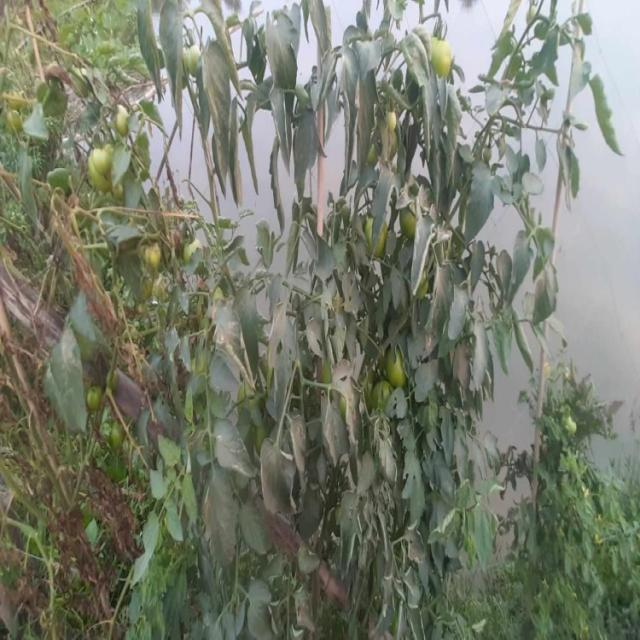tomato: (413, 27, 460, 78), (90, 146, 120, 188), (140, 233, 167, 274), (362, 220, 391, 253), (178, 43, 209, 73), (386, 355, 408, 389), (110, 103, 136, 131), (402, 205, 425, 235), (184, 234, 207, 261), (86, 381, 107, 405), (106, 423, 127, 446), (5, 111, 26, 134), (419, 276, 435, 300)
